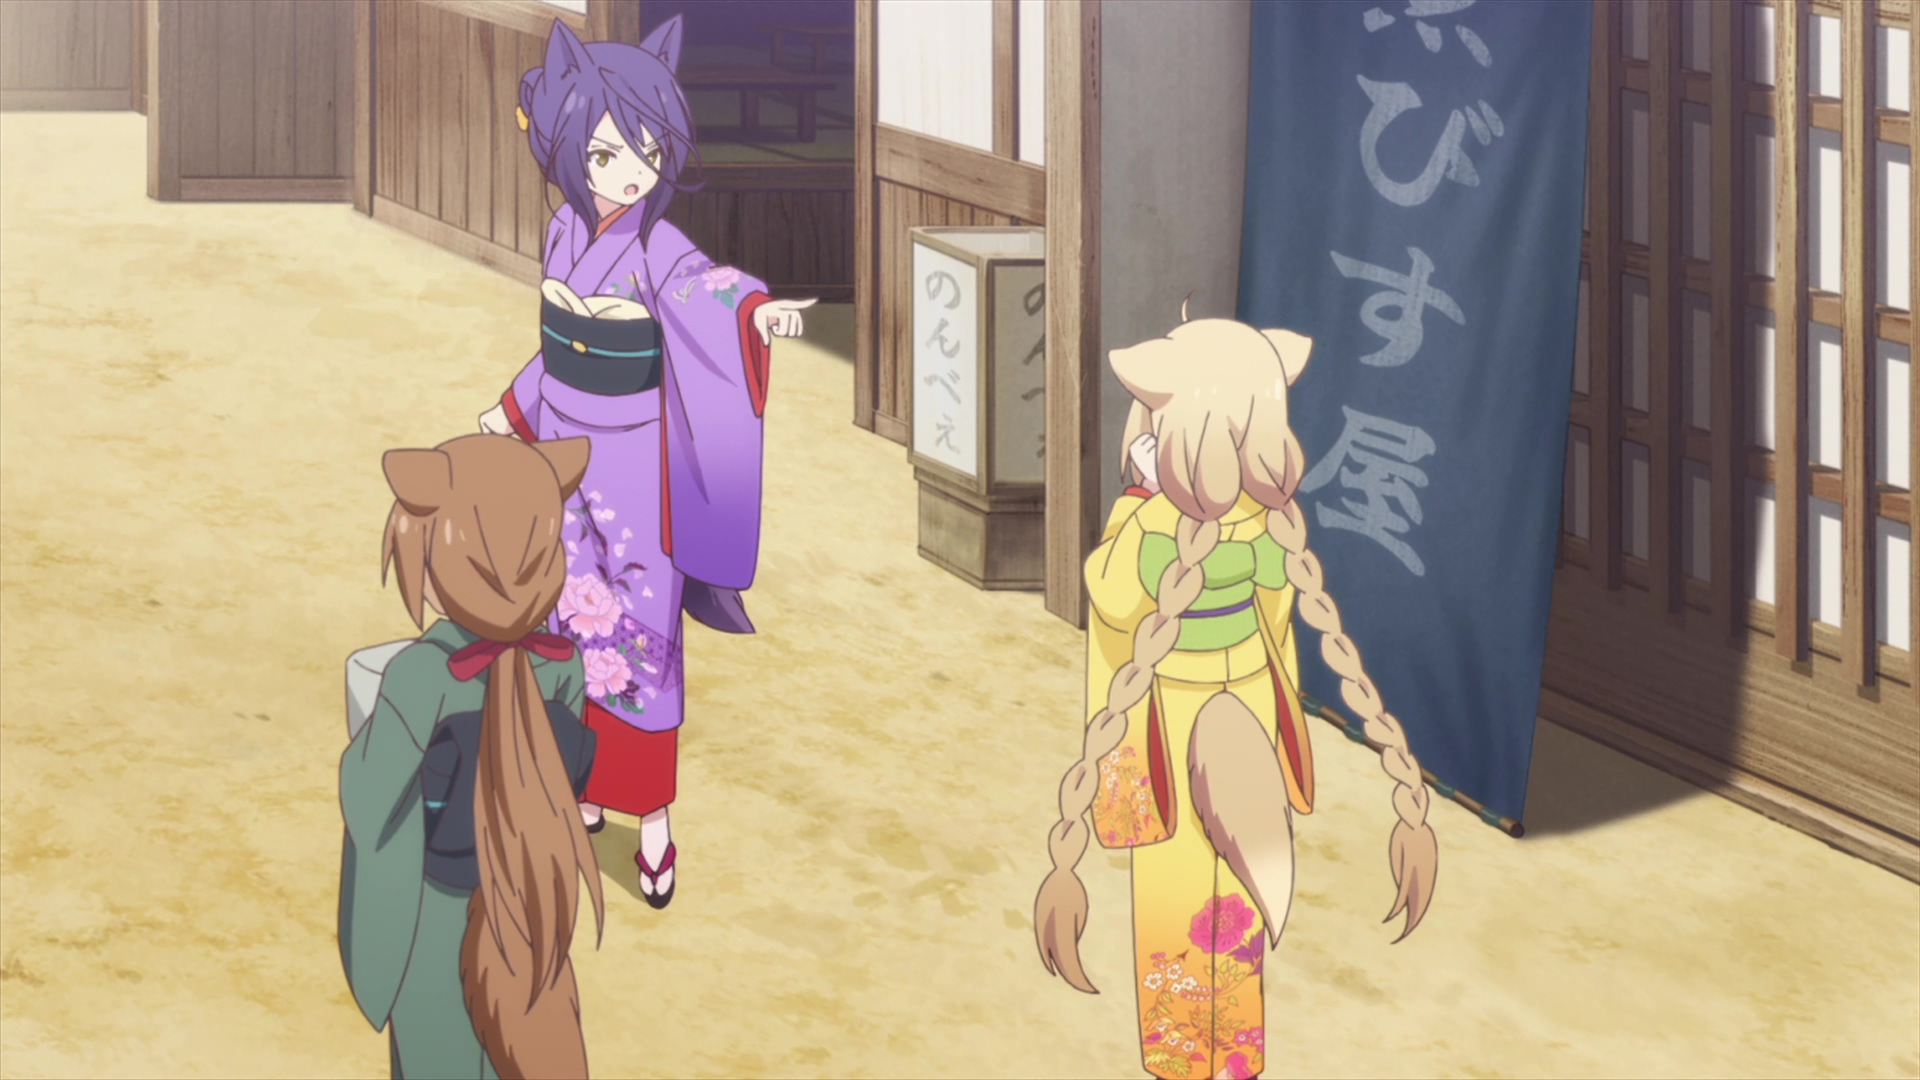其他: (334, 435, 603, 1080)
柚: (1036, 295, 1437, 1080)
皋: (477, 12, 818, 909)
